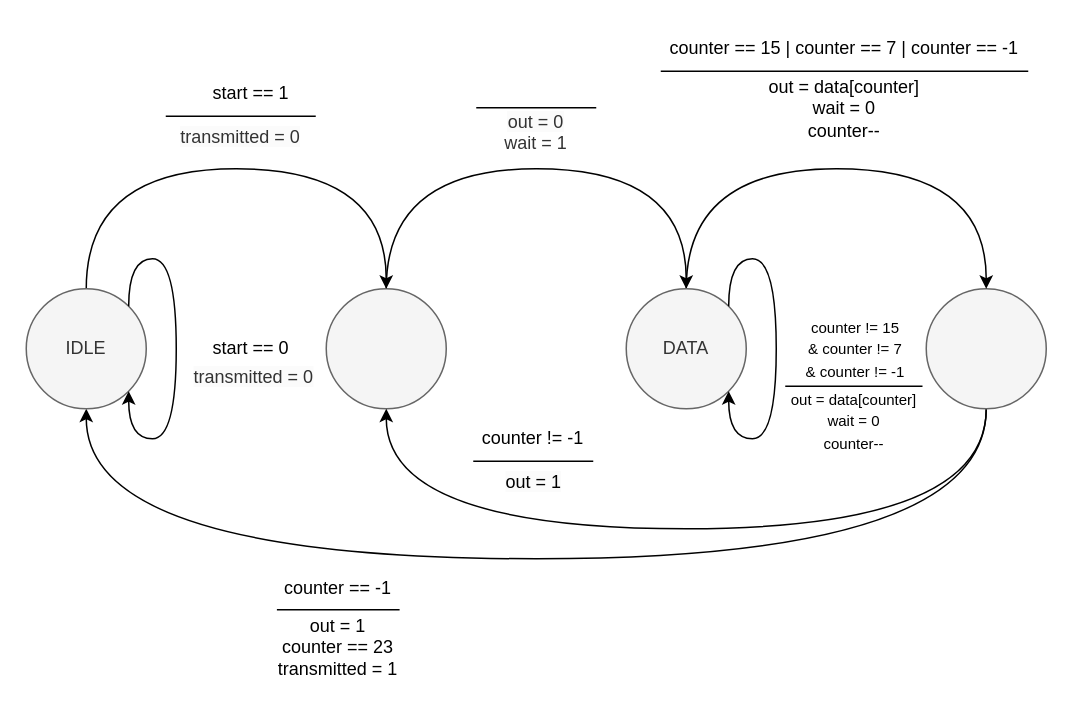
Some shapes in this 1073 by 710 pixel diagram are drawn without their labels. Here are the shapes that lost their labels. From the top down, the box of each, then its label:
(325, 287, 446, 409): START
(925, 287, 1046, 409): STOP
